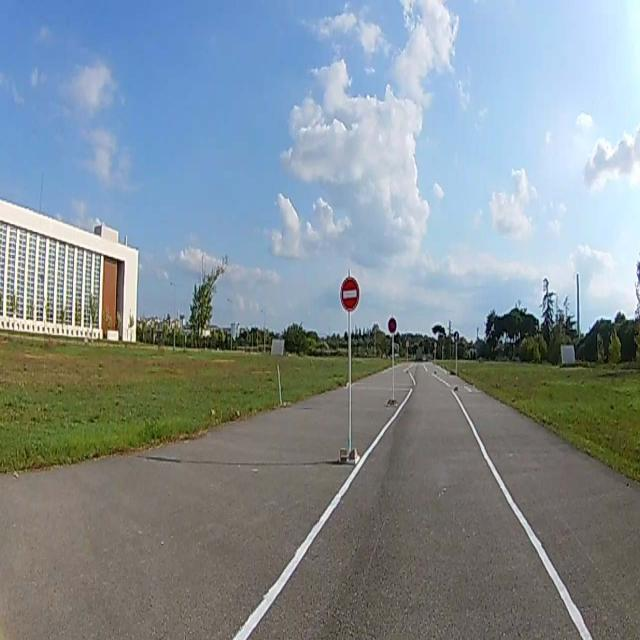girisyok: (341, 274, 359, 314)
